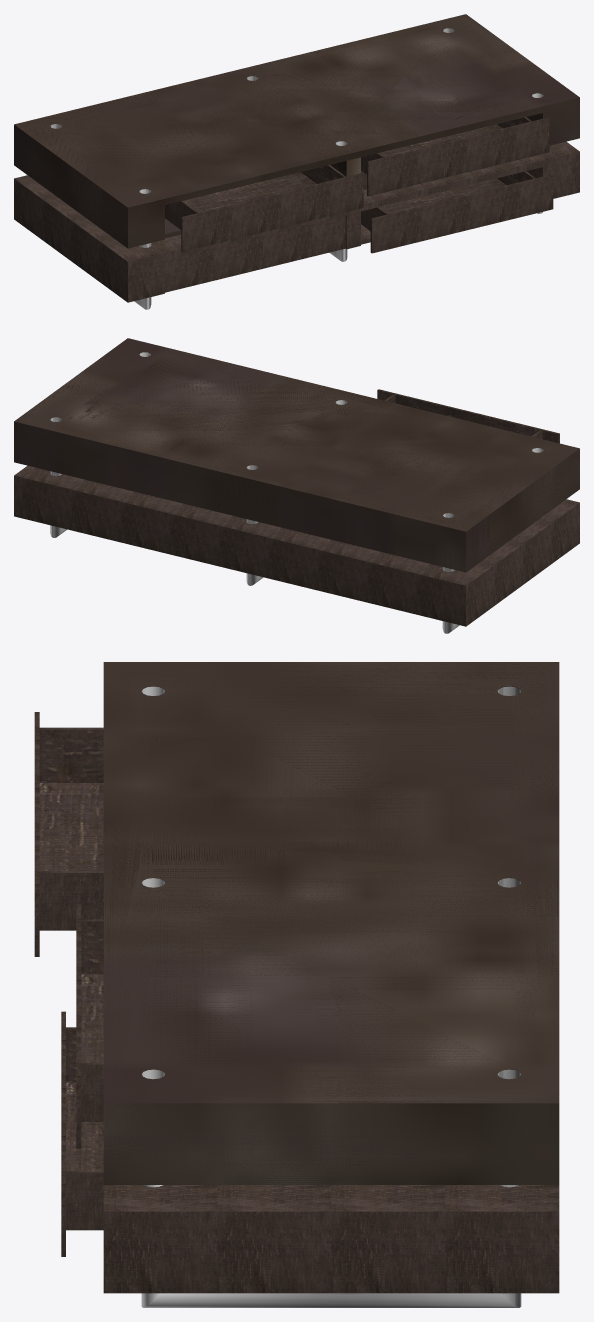
Rendered from CoffeTable_001.fbx.
3 renders of one model, top to bottom at view 1: azimuth 30°, elevation 25°; view 2: azimuth 150°, elevation 25°; view 3: azimuth 270°, elevation 25°, orthographic. The views are drawn at different scales.
Visible parts, largest first — view 1: box (×2), drawer (×2), drawer1 (×2), ID57 (×3); view 2: box (×2), ID57, drawer1; view 3: box (×2), ID57 (×3), drawer (×2), leg, drawer1.
Part boxes in pixels (<box>): box (×2): <box>14,14,579,302</box>; drawer (×2): <box>361,117,553,253</box>; drawer1 (×2): <box>165,165,363,292</box>; ID57 (×3): <box>183,117,533,213</box>; box (×2): <box>14,338,579,626</box>; ID57: <box>387,394,539,436</box>; drawer1: <box>377,389,559,443</box>; box (×2): <box>103,662,559,1293</box>; ID57 (×3): <box>39,729,103,1170</box>; drawer (×2): <box>61,903,103,1256</box>; leg: <box>141,1069,521,1307</box>; drawer1: <box>34,712,103,956</box>.
Bounding box in the file's own units: 140 × 34.35 × 70.17.
2 materials, 2 textured.
